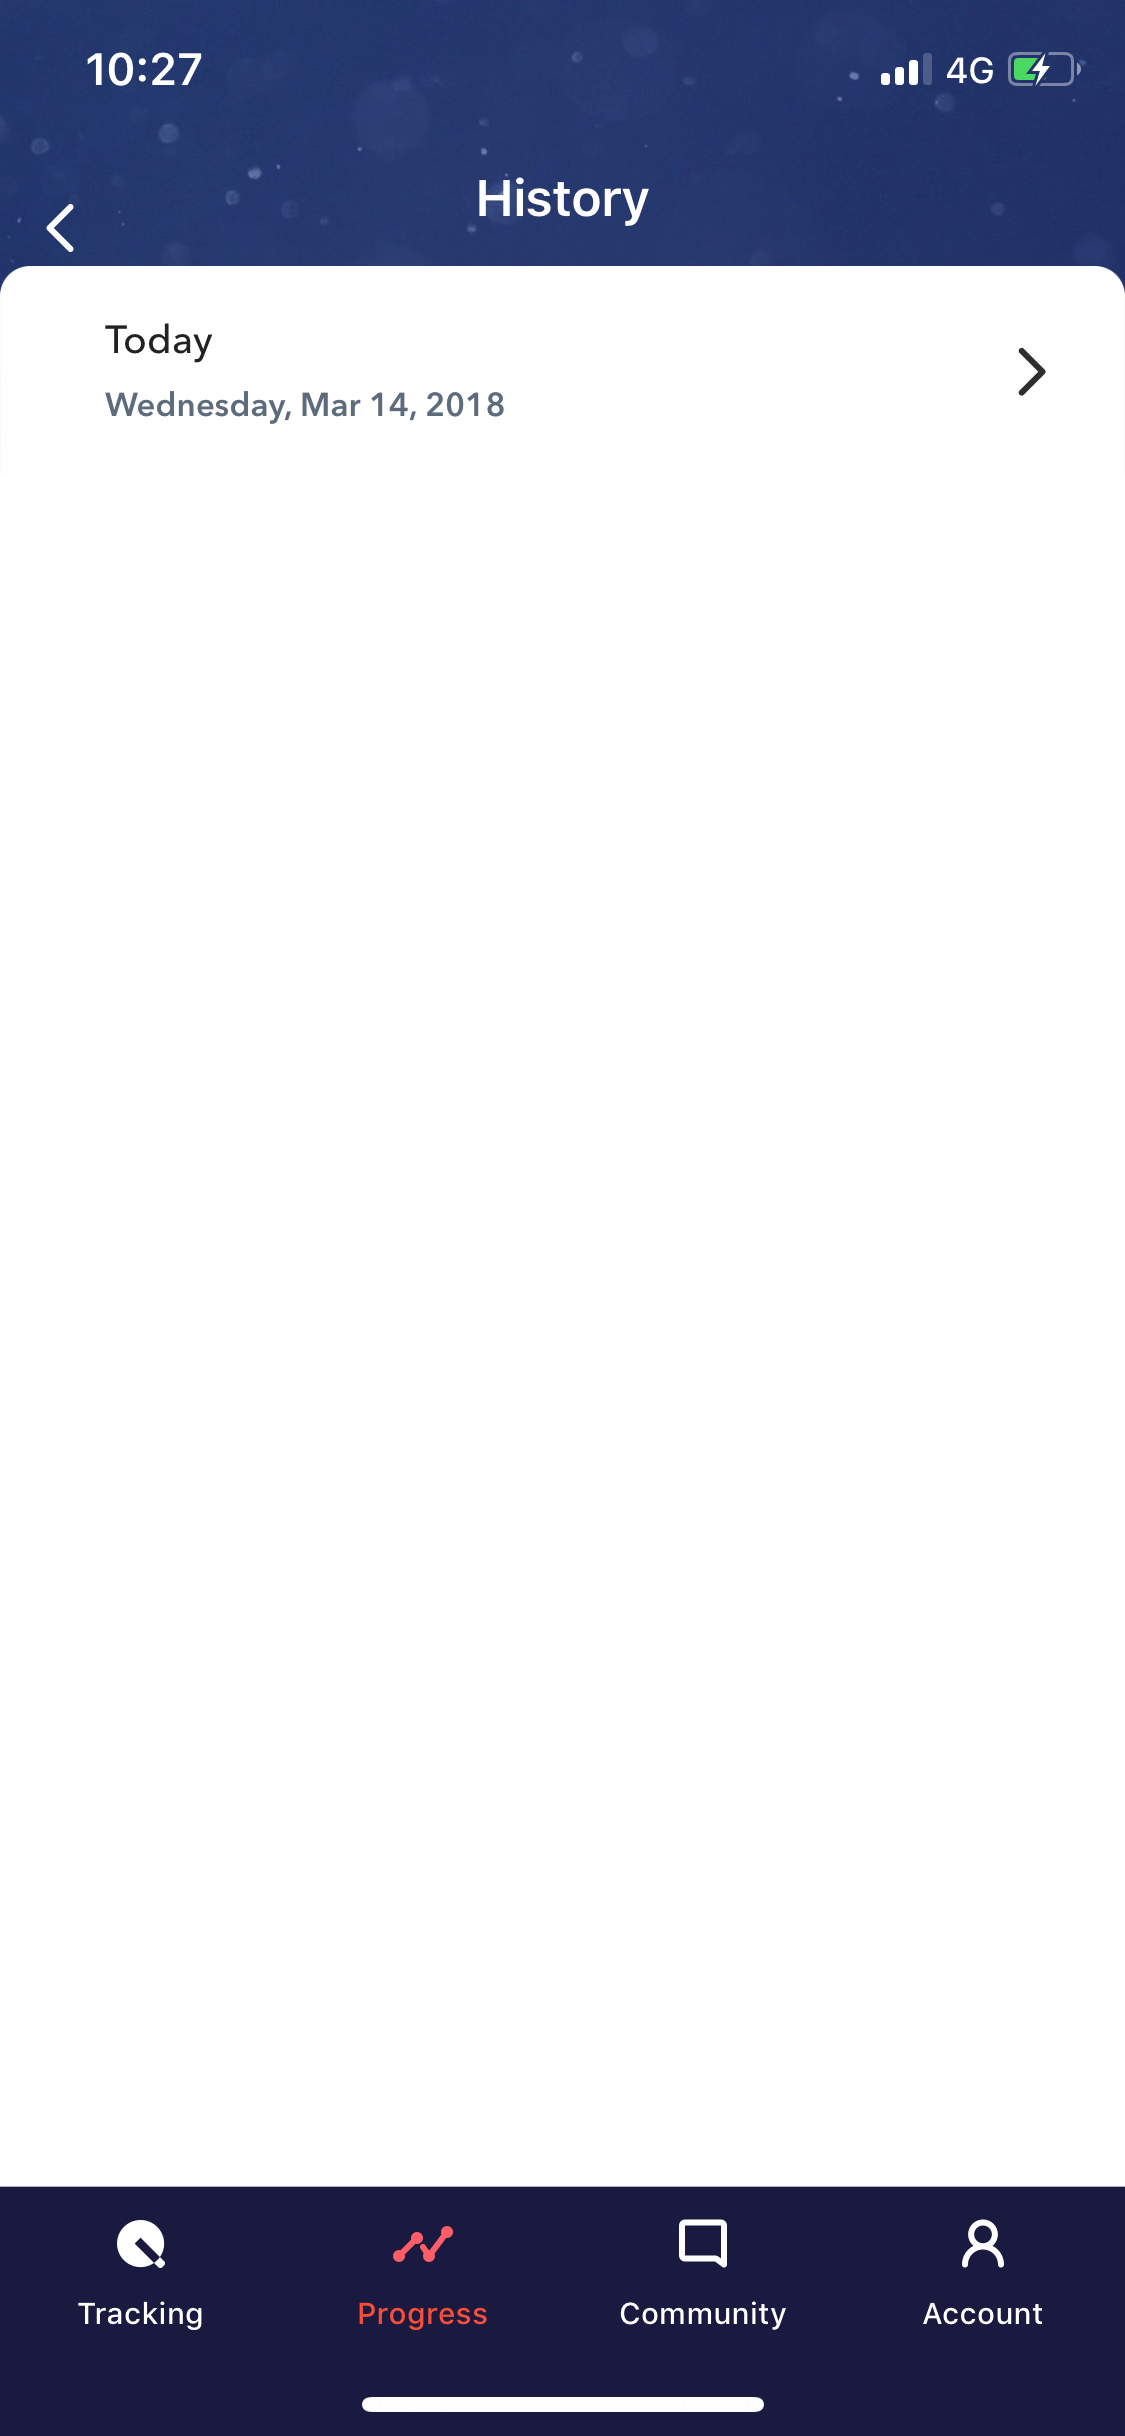Buttons: (22, 172, 112, 259)
